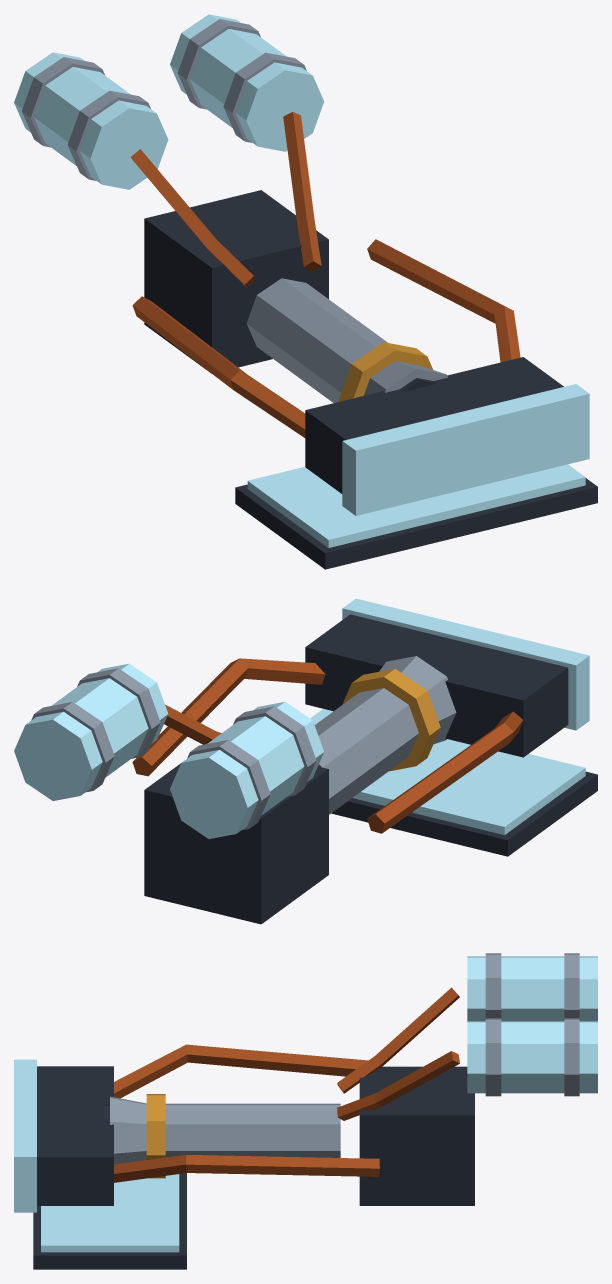
File: FlameB2.obj
3 renders of one model, top to bottom at view 1: azimuth 30°, elevation 25°; view 2: azimuth 150°, elevation 25°; view 3: azimuth 270°, elevation 25°, orthographic. The views are drawn at different scales.
Parts seen in each view (by area): view 1: FlameB2; view 2: FlameB2; view 3: FlameB2.
Boxes of the visible parts, bbox=[...] form: FlameB2: bbox=[14, 14, 597, 569]; FlameB2: bbox=[14, 598, 597, 924]; FlameB2: bbox=[14, 953, 597, 1269].
Size of the model in its own units: 0.7271 by 0.648 by 1.52.
